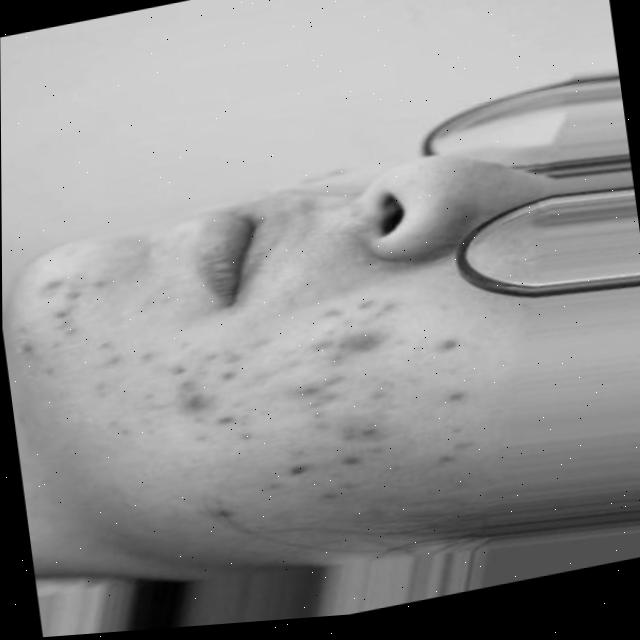Rosacea: (211, 294, 470, 549), (35, 250, 125, 379)
